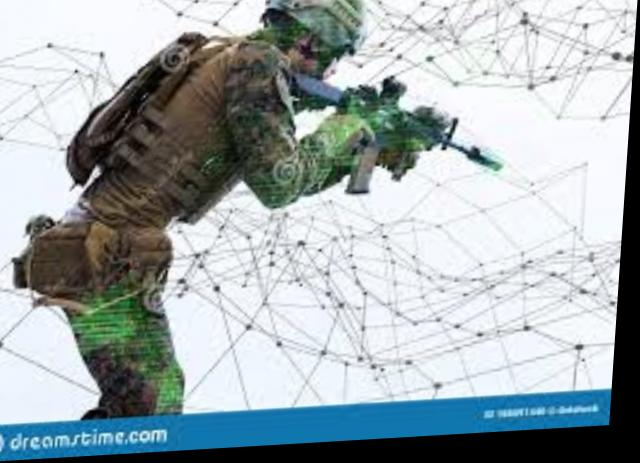other: (63, 0, 404, 226)
